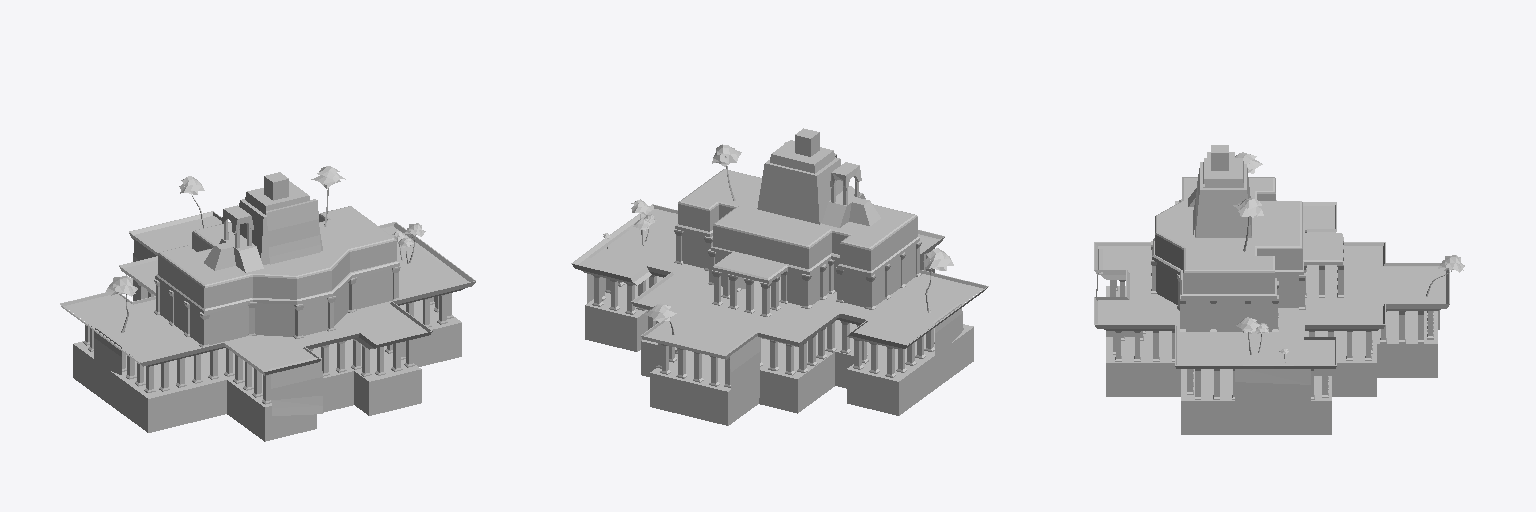
Rendered from Temple.obj.
3 views of the same model, side by side, from view 1: azimuth 30°, elevation 25°; view 2: azimuth 150°, elevation 25°; view 3: azimuth 270°, elevation 25° (orthographic).
Visible parts, largest first — view 1: Line002, Line005, Line006, Loft042, Plane015, Shape001, Line010, Plane003, Box001; view 2: Line002, Line005, Loft042, Line006, Box001, Shape001, Plane015, Plane003, Line010; view 3: Line002, Line005, Line006, Loft042, Plane015, Shape001, Box001, Plane003.
Boxes of the visible parts, x1=… form: Line002: x1=73, y1=206, x2=461, y2=441; Line005: x1=64, y1=216, x2=468, y2=371; Line006: x1=160, y1=172, x2=392, y2=344; Loft042: x1=83, y1=266, x2=453, y2=404; Plane015: x1=94, y1=199, x2=441, y2=415; Shape001: x1=60, y1=211, x2=475, y2=375; Line010: x1=204, y1=235, x2=263, y2=272; Plane003: x1=106, y1=166, x2=425, y2=296; Box001: x1=234, y1=199, x2=322, y2=264; Line002: x1=585, y1=169, x2=973, y2=425; Line005: x1=578, y1=209, x2=982, y2=359; Loft042: x1=592, y1=229, x2=963, y2=387; Line006: x1=682, y1=128, x2=915, y2=307; Box001: x1=757, y1=157, x2=842, y2=224; Shape001: x1=571, y1=204, x2=988, y2=359; Plane015: x1=587, y1=142, x2=962, y2=418; Plane003: x1=603, y1=144, x2=953, y2=322; Line010: x1=822, y1=190, x2=880, y2=227; Line002: x1=1106, y1=177, x2=1437, y2=434; Line005: x1=1098, y1=199, x2=1445, y2=364; Line006: x1=1156, y1=145, x2=1298, y2=331; Loft042: x1=1110, y1=227, x2=1433, y2=399; Plane015: x1=1096, y1=162, x2=1439, y2=426; Shape001: x1=1094, y1=201, x2=1449, y2=368; Box001: x1=1195, y1=164, x2=1251, y2=237; Plane003: x1=1233, y1=152, x2=1464, y2=350.
Bounding box in the file's own units: 52.81 × 30.73 × 50.38.